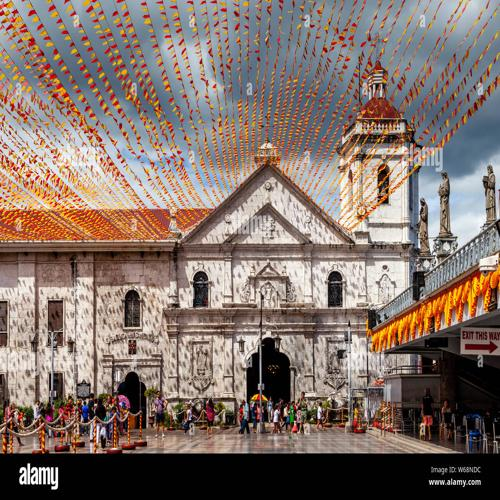Sto. Nino Basilica Church: (159, 35, 423, 419)
